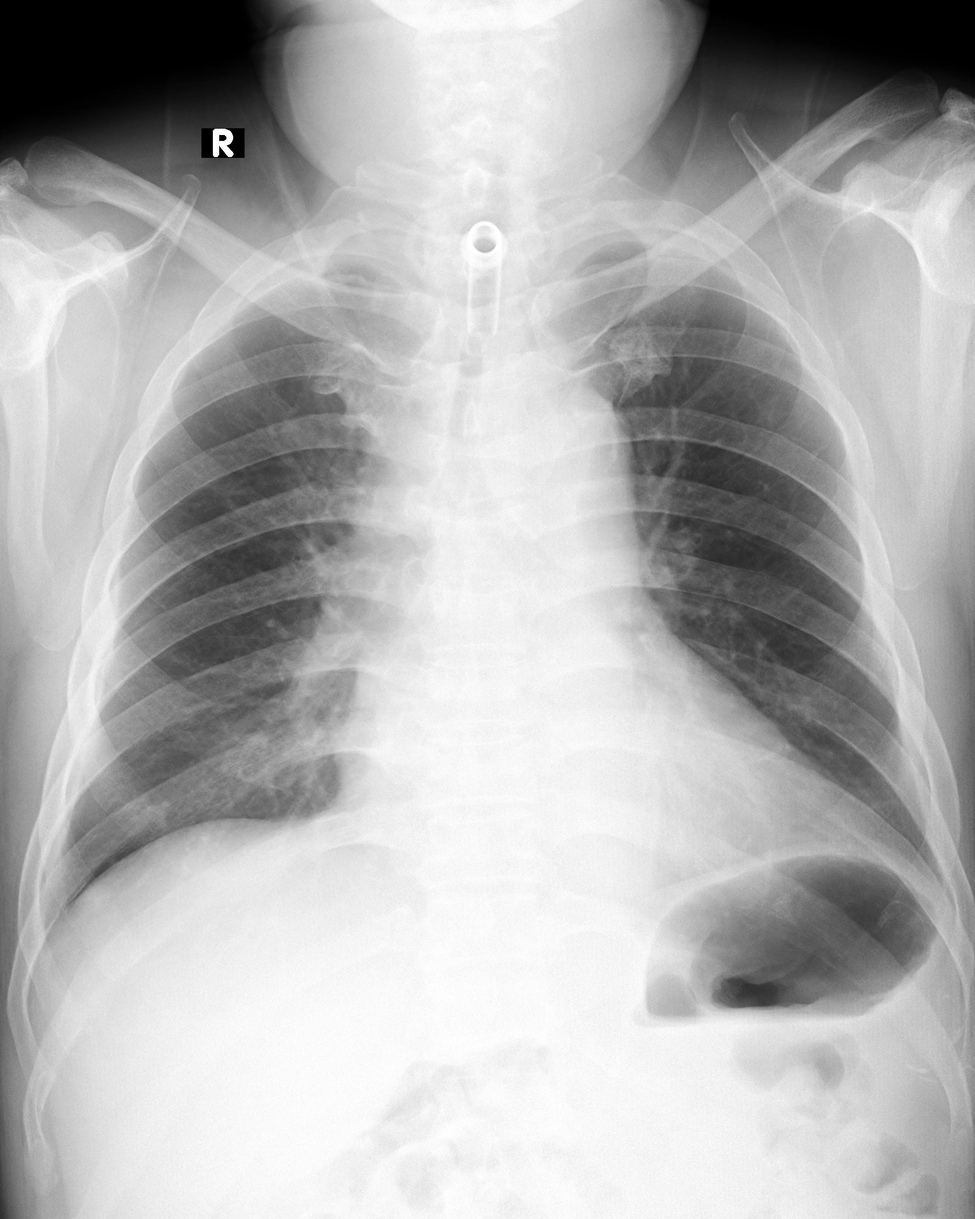Aortic enlargement: (493, 372, 636, 513)
Cardiomegaly: (325, 718, 863, 851)
